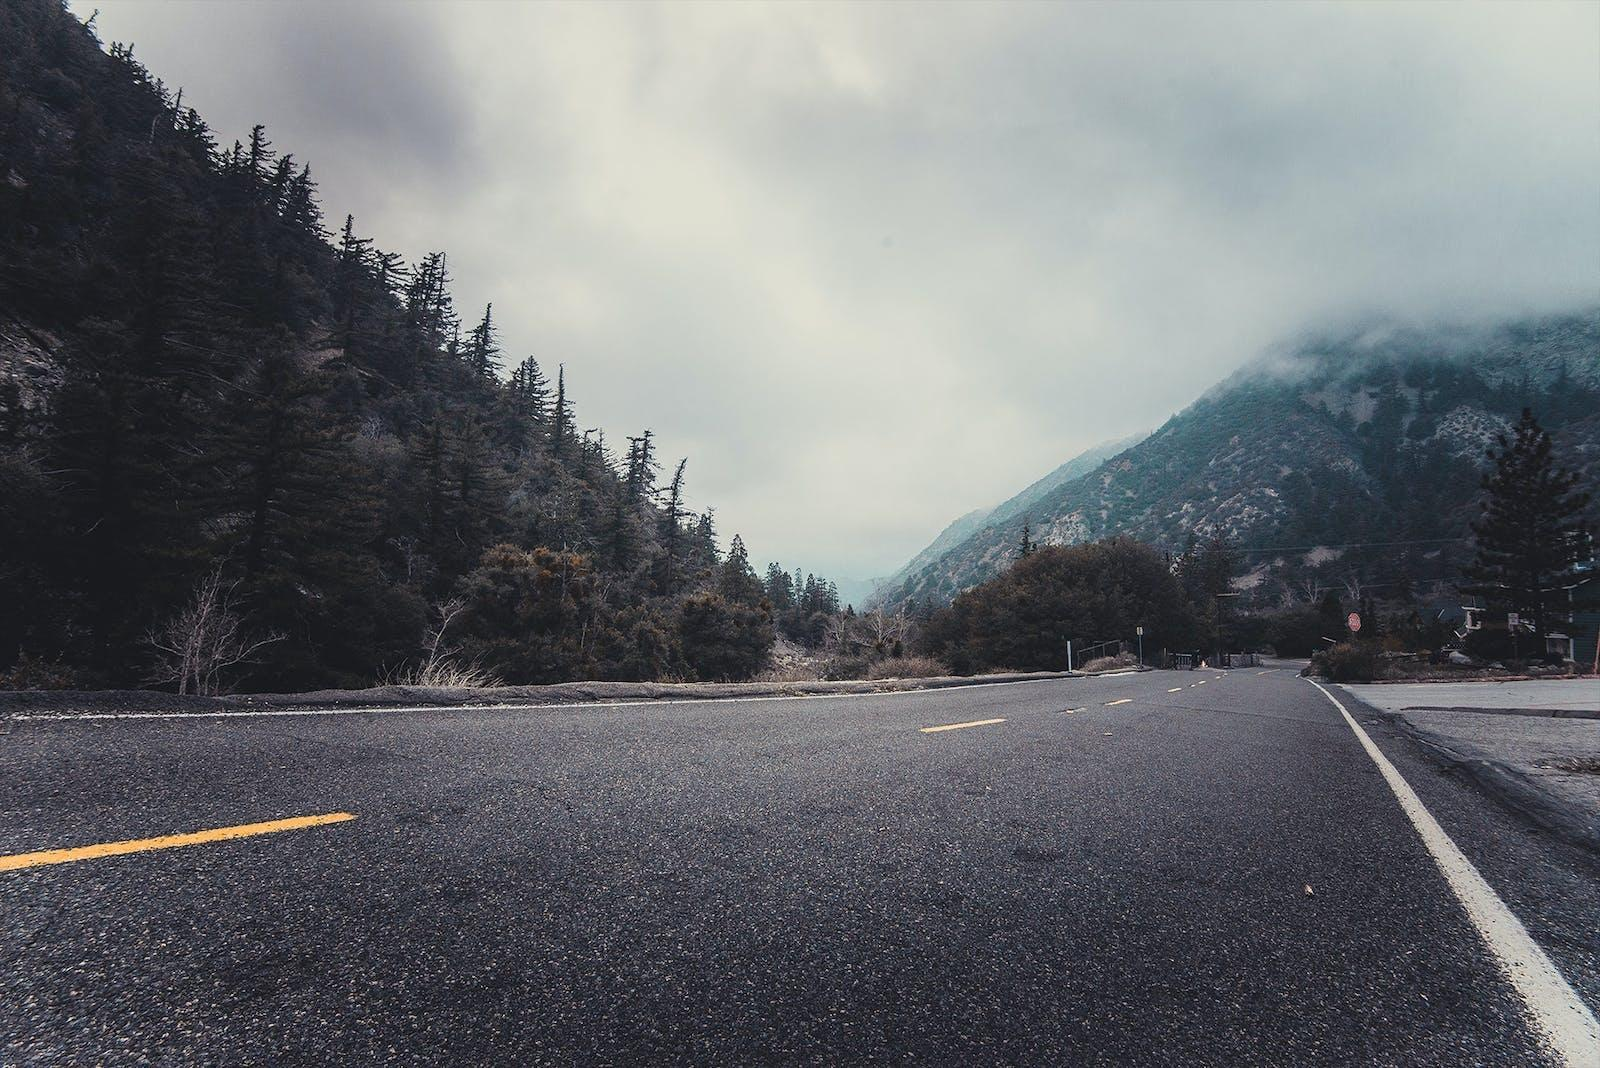road: (0, 667, 1554, 1064)
